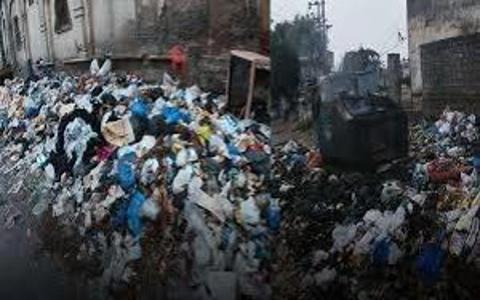overflowing garbage: (314, 96, 453, 266)
